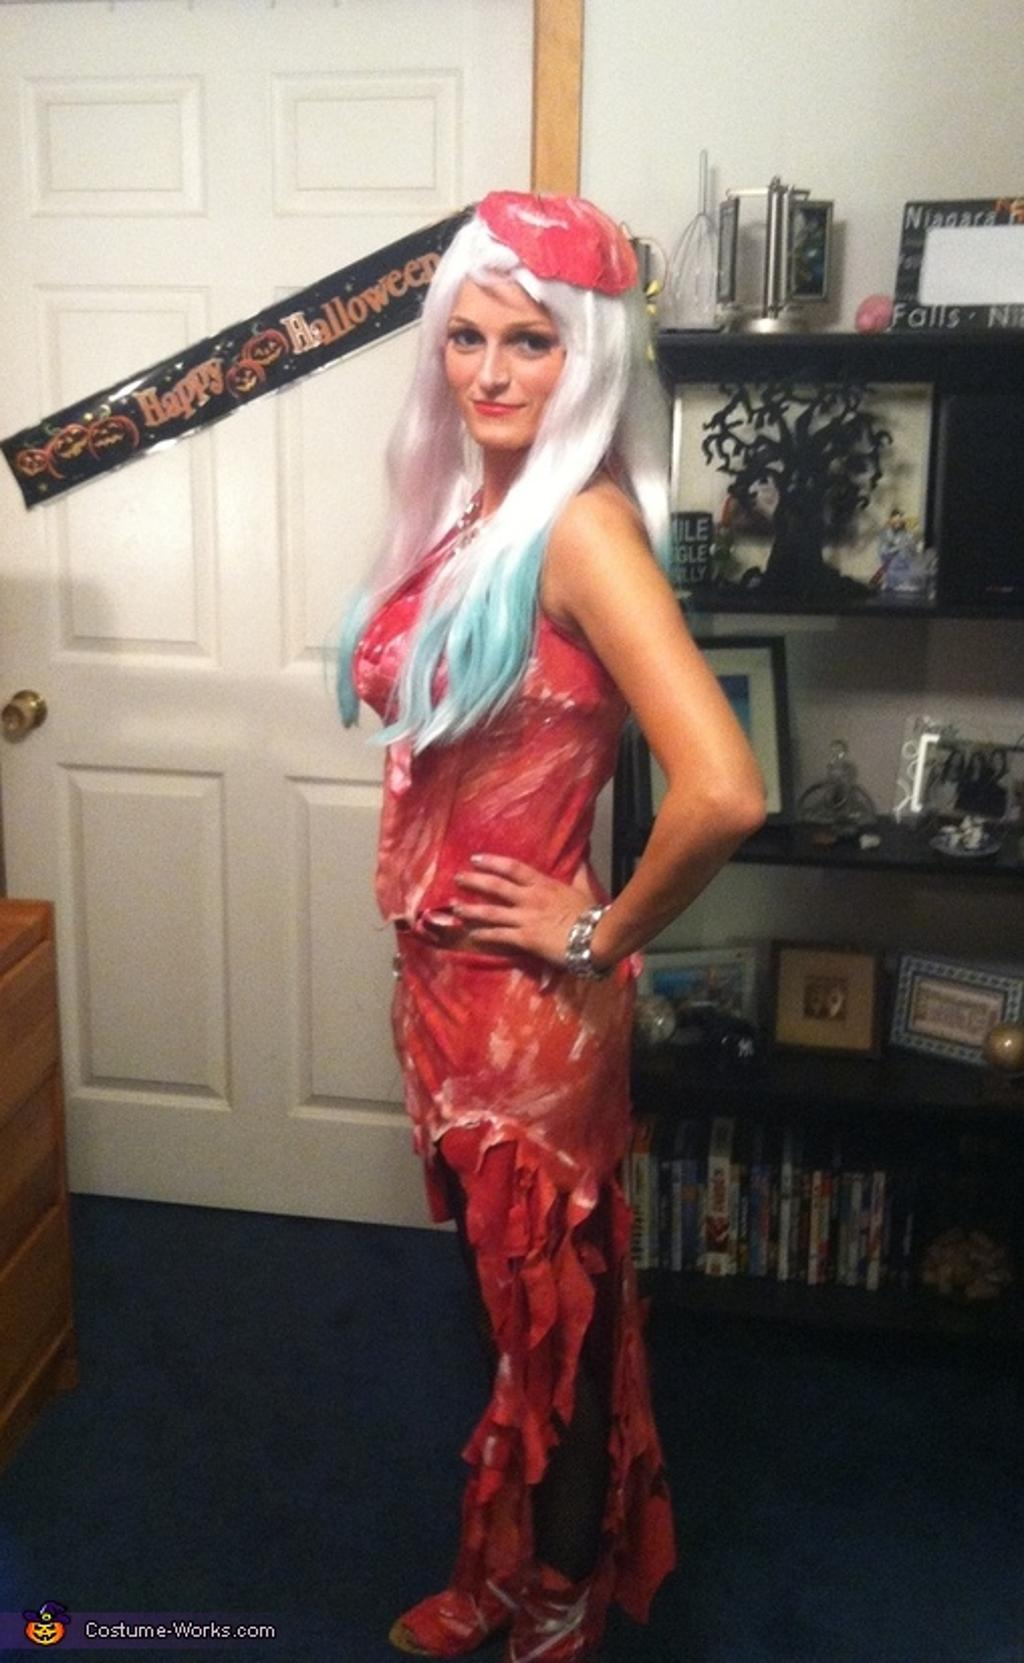face: (439, 276, 579, 448)
